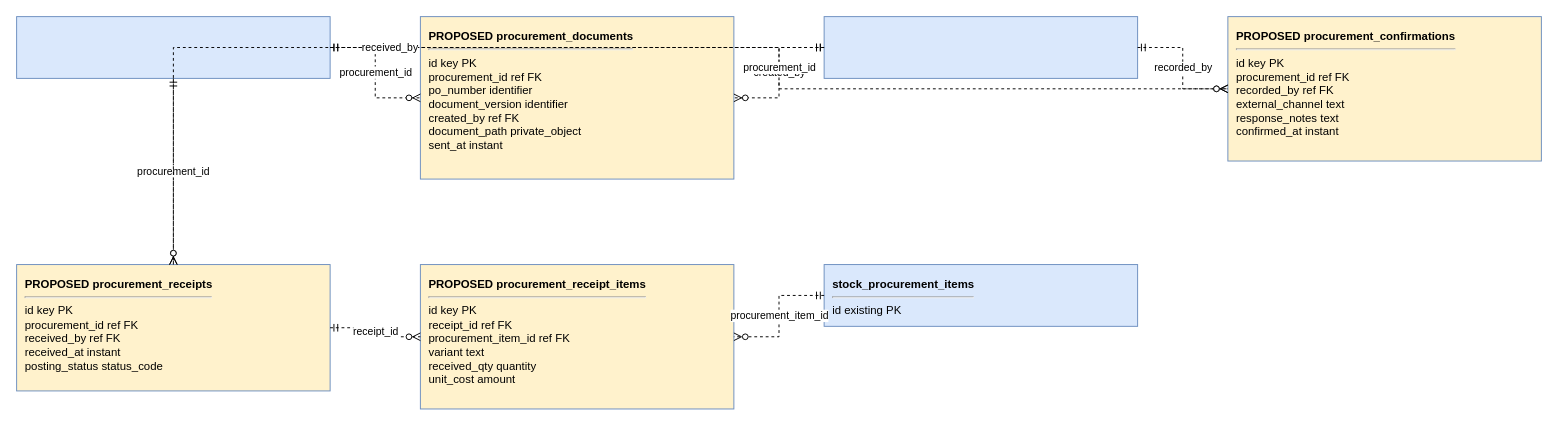
The diagram is 1558 pixels wide and 426 high, and some of its shapes have lost their labels. The shapes that lost their labels are listed below. From the top down, each one's centre as x and y in pixels, then its label:
At [173,47]: "stock_procurements id existing PK".
At [980,47]: "users id existing PK".
